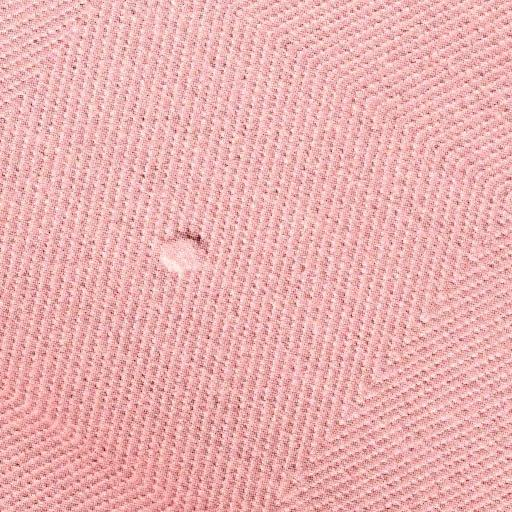knot: (153, 225, 214, 282)
